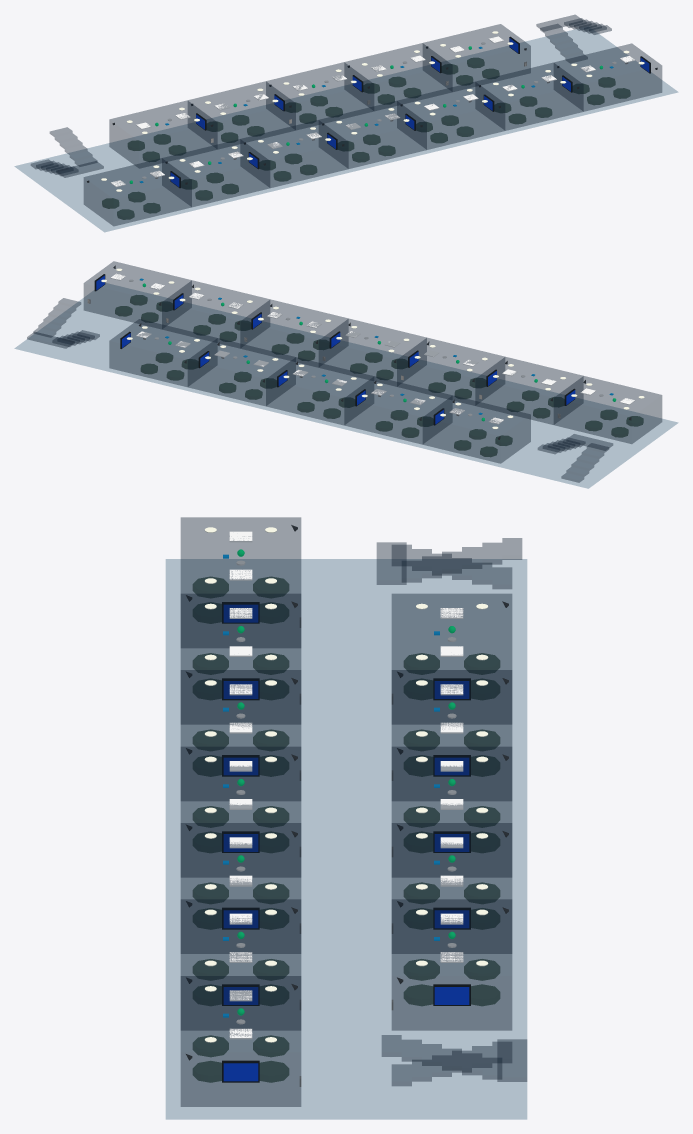
The model's file is FloorType1_Ground.glb.
3 renders of one model, top to bottom at view 1: azimuth 30°, elevation 25°; view 2: azimuth 150°, elevation 25°; view 3: azimuth 270°, elevation 25°, orthographic. The views are drawn at different scales.
Visible parts, largest first — view 1: object 1, object 123, object 15, object 161, object 180, object 218, object 237, object 142, object 53, object 72, object 199, object 34 (+3 smaller); view 2: object 1, object 15, object 123, object 34, object 91, object 72, object 53, object 199, object 180, object 161, object 142, object 218 (+3 smaller); view 3: object 1, object 91, object 237, object 218, object 34, object 161, object 72, object 53, object 180, object 199, object 142, object 15 (+3 smaller).
Part boxes in pixels (x1=…): object 1: x1=15, y1=29, x2=677, y2=231; object 123: x1=84, y1=158, x2=191, y2=225; object 15: x1=109, y1=100, x2=217, y2=168; object 161: x1=240, y1=120, x2=348, y2=187; object 180: x1=319, y1=101, x2=426, y2=168; object 218: x1=475, y1=63, x2=583, y2=130; object 237: x1=554, y1=43, x2=661, y2=111; object 142: x1=162, y1=139, x2=269, y2=206; object 53: x1=266, y1=62, x2=373, y2=129; object 72: x1=344, y1=43, x2=452, y2=110; object 199: x1=397, y1=82, x2=504, y2=149; object 34: x1=188, y1=81, x2=295, y2=148; object 1: x1=15, y1=283, x2=677, y2=488; object 15: x1=423, y1=395, x2=530, y2=463; object 123: x1=554, y1=376, x2=661, y2=443; object 34: x1=344, y1=376, x2=452, y2=444; object 91: x1=109, y1=319, x2=217, y2=386; object 72: x1=188, y1=338, x2=295, y2=405; object 53: x1=266, y1=357, x2=373, y2=425; object 199: x1=240, y1=299, x2=348, y2=366; object 180: x1=319, y1=319, x2=426, y2=386; object 161: x1=397, y1=338, x2=504, y2=405; object 142: x1=475, y1=357, x2=583, y2=424; object 218: x1=162, y1=280, x2=269, y2=347; object 1: x1=166, y1=559, x2=526, y2=1119; object 91: x1=392, y1=899, x2=511, y2=1030; object 237: x1=181, y1=976, x2=300, y2=1106; object 218: x1=181, y1=899, x2=300, y2=1030; object 34: x1=392, y1=670, x2=511, y2=800; object 161: x1=181, y1=670, x2=300, y2=800; object 72: x1=392, y1=823, x2=511, y2=953; object 53: x1=392, y1=747, x2=511, y2=877; object 180: x1=181, y1=747, x2=300, y2=877; object 199: x1=181, y1=823, x2=300, y2=953; object 142: x1=181, y1=594, x2=300, y2=724; object 15: x1=392, y1=594, x2=511, y2=724.
Size of the model in its own units: 88 by 4.01 by 24.
